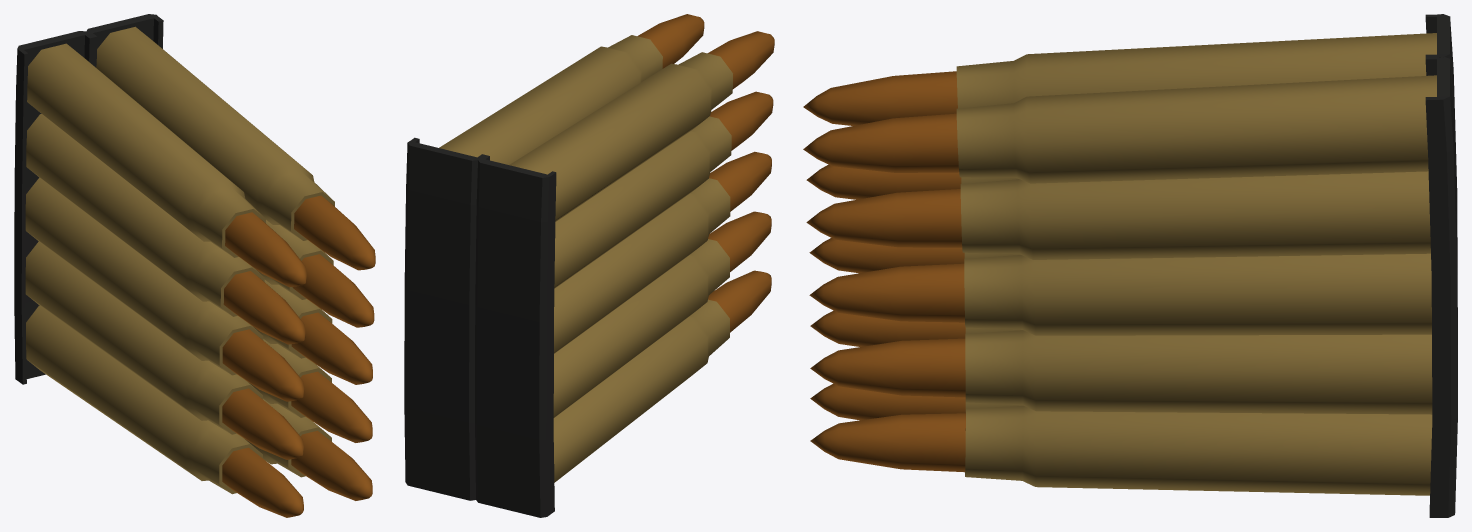
File: StripClip.fbx
The picture shows the model from 3 angles, left to right: view 1: azimuth 30°, elevation 25°; view 2: azimuth 150°, elevation 25°; view 3: azimuth 270°, elevation 25°; orthographic projection. The views are drawn at different scales.
Parts seen in each view (by area): view 1: Сartridge; view 2: Сartridge; view 3: Сartridge.
Boxes of the visible parts, x1,y1,x2,y2 form: Сartridge: (14, 14, 375, 517); Сartridge: (404, 14, 774, 517); Сartridge: (803, 14, 1457, 517).
Bounding box in the file's own units: 9.26 × 21.14 × 29.98.
